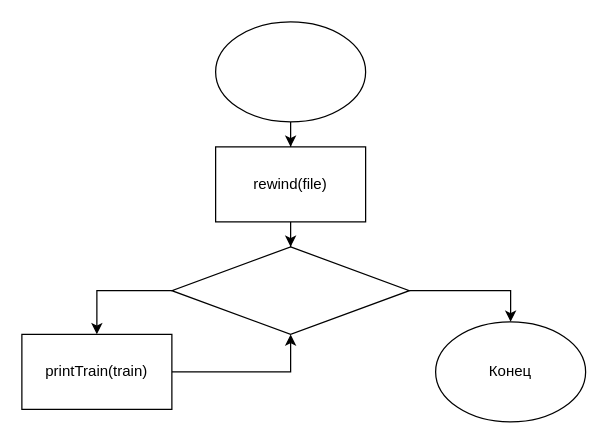
Some shapes in this 608 by 444 pixel diagram are drawn without their labels. Here are the shapes that lost their labels. From the top down, the box of each, then its label:
(214, 21, 366, 122): Начало printAllTrains
(171, 246, 409, 334): fread(&train, sizeof(struct TRAIN), 1, file)
